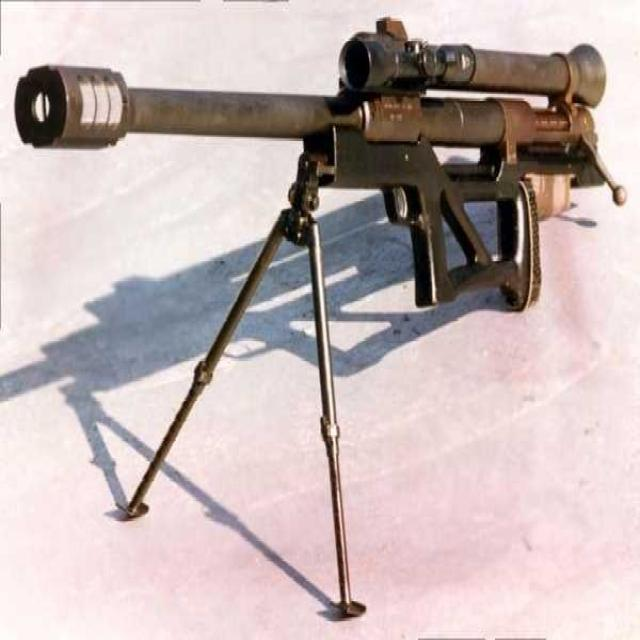heavyweapon: (14, 23, 627, 323)
